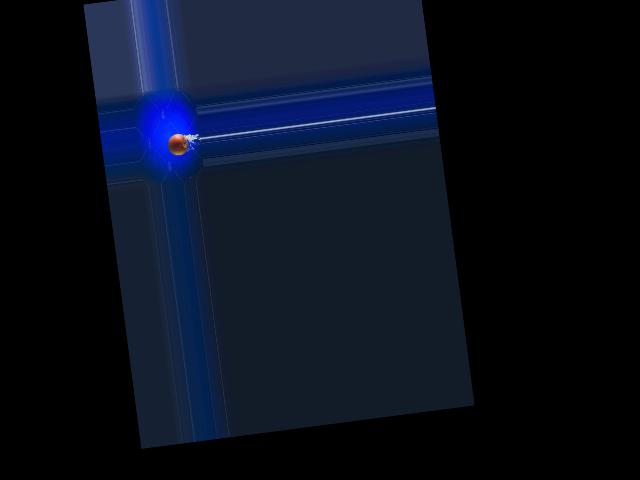tomato: (166, 133, 189, 157)
